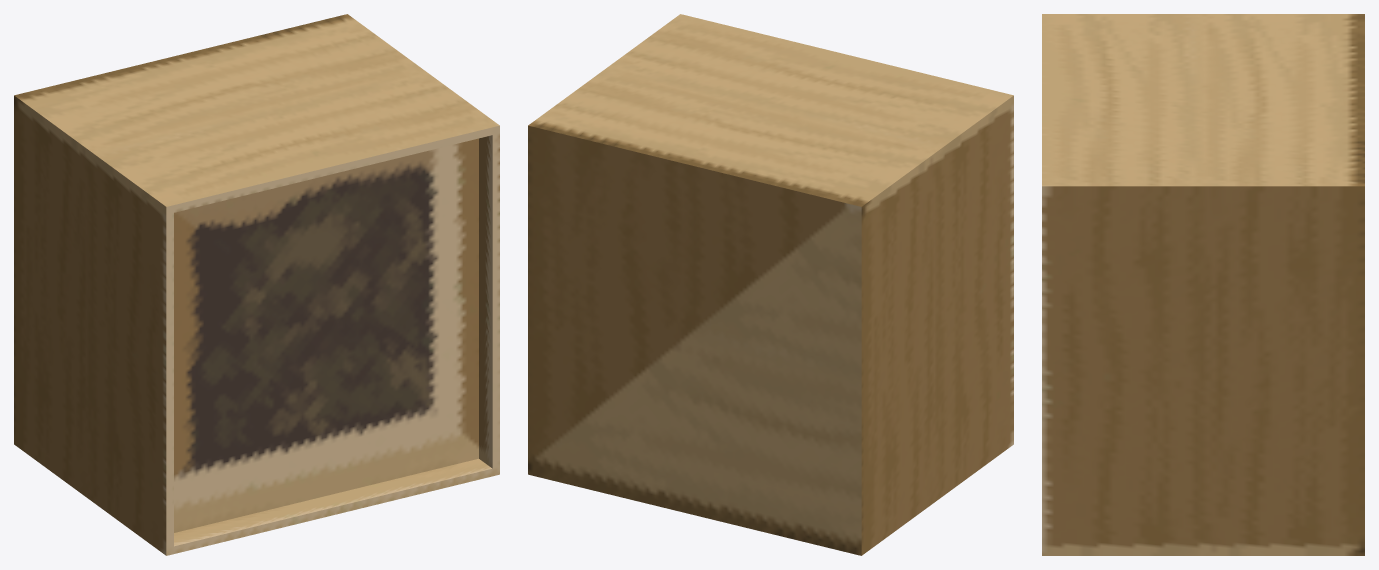
File: pz_plant_native_32.obj
3 views of the same model, side by side, from view 1: azimuth 30°, elevation 25°; view 2: azimuth 150°, elevation 25°; view 3: azimuth 270°, elevation 25° (orthographic). The views are drawn at different scales.
Parts seen in each view (by area): view 1: pot_soil_and_rim; view 2: pot_soil_and_rim; view 3: pot_soil_and_rim.
Boxes of the visible parts, <box> form: pot_soil_and_rim: <box>14,14,499,555</box>; pot_soil_and_rim: <box>528,14,1013,555</box>; pot_soil_and_rim: <box>1042,14,1364,555</box>.
Bounding box in the file's own units: 0.8359 × 0.8359 × 0.6617.
Materials: 1 (1 with a texture image).
